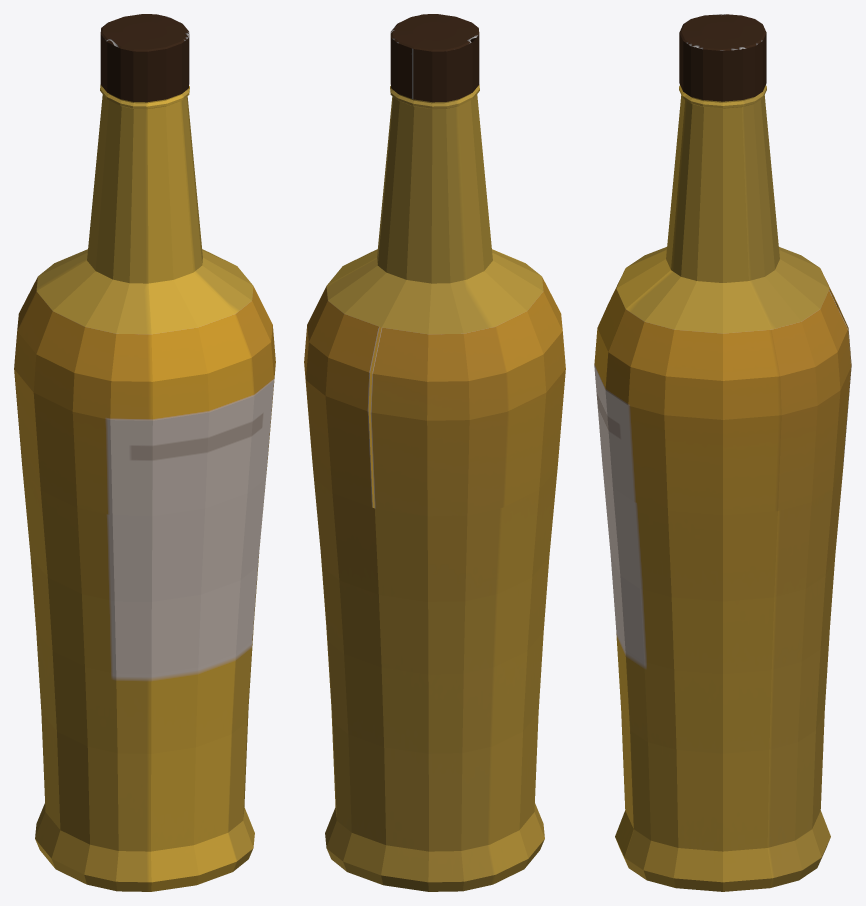
File: bottle2.fbx
3 views of the same model, side by side, from view 1: azimuth 30°, elevation 25°; view 2: azimuth 150°, elevation 25°; view 3: azimuth 270°, elevation 25° (orthographic).
Parts seen in each view (by area): view 1: pPlane1; view 2: pPlane1; view 3: pPlane1.
Part boxes in pixels (bbox=[...]): pPlane1: bbox=[14, 14, 275, 891]; pPlane1: bbox=[304, 14, 565, 891]; pPlane1: bbox=[594, 14, 851, 891].
Bounding box in the file's own units: 17.37 × 60.85 × 17.37.
